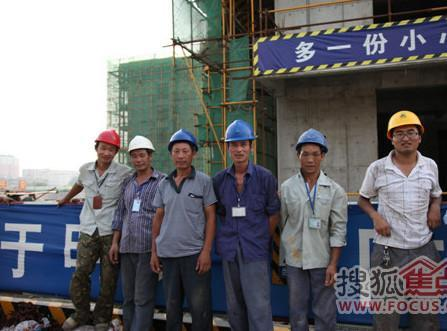helmet: (380, 111, 430, 133), (294, 127, 333, 150), (97, 126, 127, 152), (221, 118, 251, 142), (167, 125, 201, 146), (125, 129, 155, 150)
no-gloves: (426, 207, 446, 229), (196, 251, 213, 274), (375, 218, 393, 238), (108, 243, 121, 262), (326, 267, 337, 288), (54, 197, 70, 211), (150, 253, 160, 275)
no-vest: (376, 160, 431, 239), (288, 176, 335, 265), (218, 166, 268, 244), (124, 171, 164, 248), (163, 178, 204, 252), (86, 160, 122, 234)
person: (369, 108, 441, 331), (279, 126, 355, 331), (215, 120, 277, 327), (155, 126, 215, 329), (76, 131, 125, 328), (118, 134, 163, 331)
